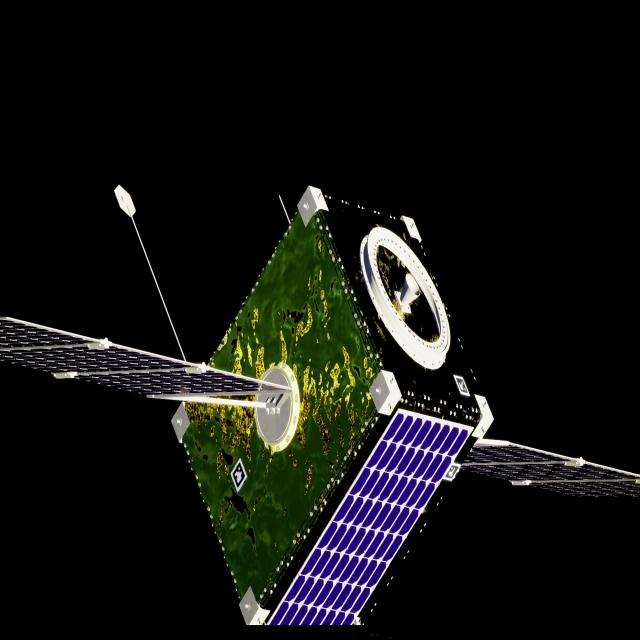satellite: (0, 188, 640, 628)
